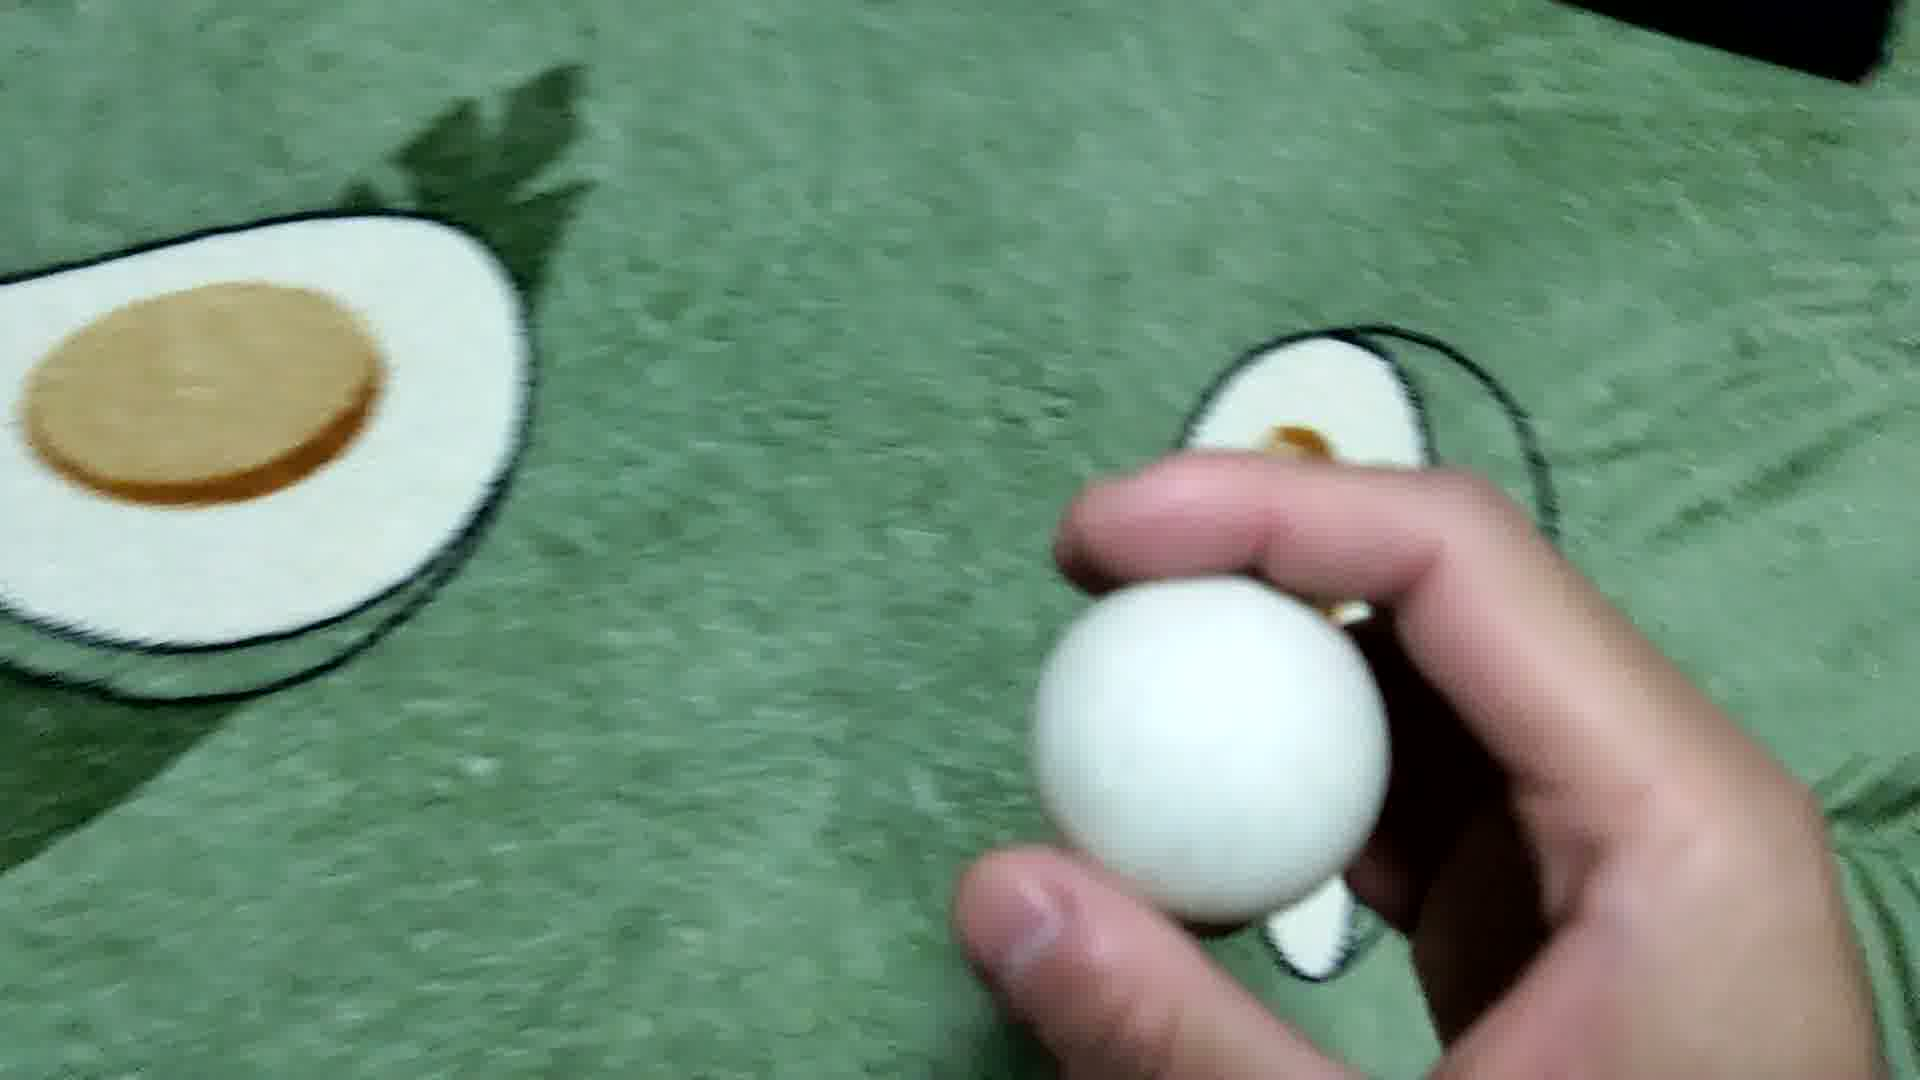Ball: (1033, 578, 1389, 924)
